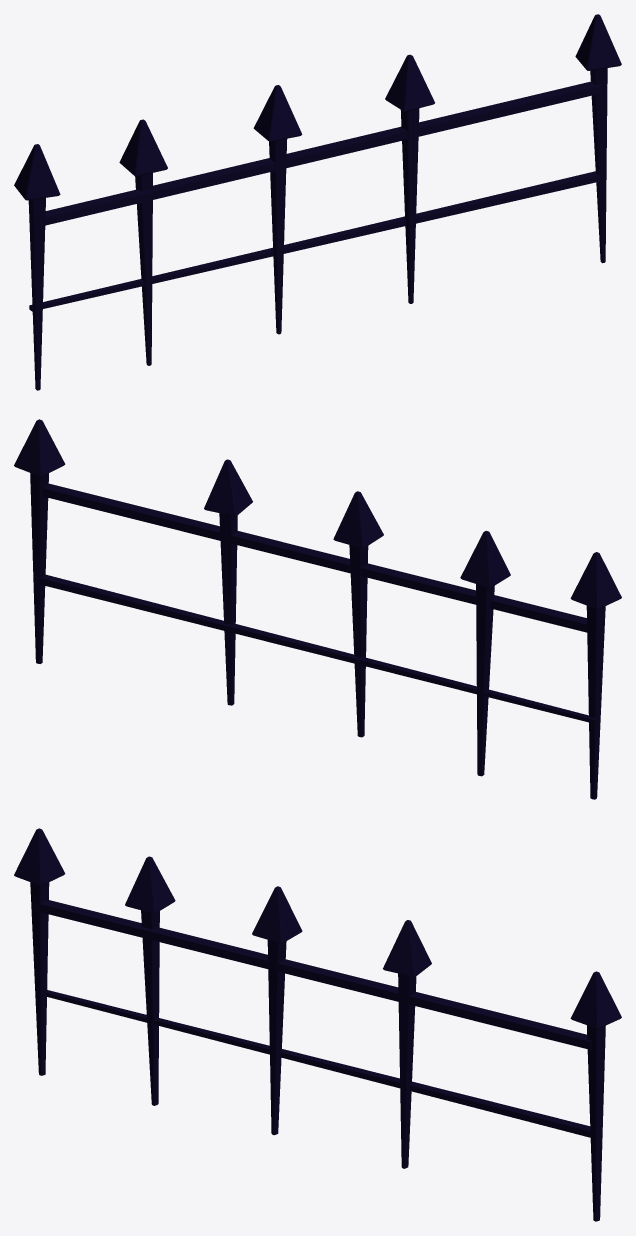
File: METALFENCE2.0.fbx
3 renders of one model, top to bottom at view 1: azimuth 30°, elevation 25°; view 2: azimuth 150°, elevation 25°; view 3: azimuth 330°, elevation 25°, orthographic.
Parts seen in each view (by area): view 1: polySurface5.001; view 2: polySurface5.001; view 3: polySurface5.001.
Part boxes in pixels (box(x1,y1,x2,y2)): polySurface5.001: box(14, 14, 621, 390); polySurface5.001: box(14, 419, 621, 799); polySurface5.001: box(14, 828, 621, 1221).
Size of the model in its own units: 4700 by 1902 by 348.
